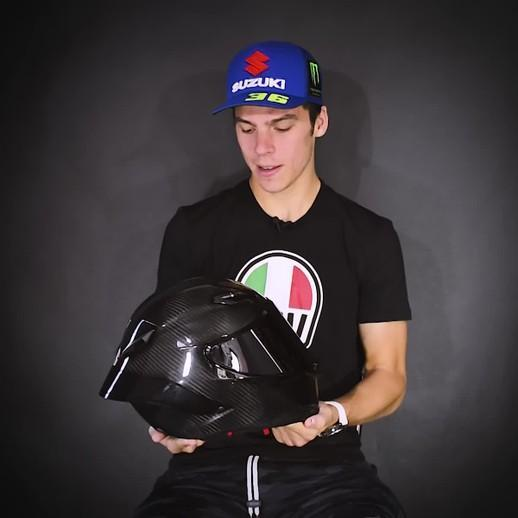helmet: (97, 274, 322, 442)
nohelmet: (210, 39, 330, 194)
